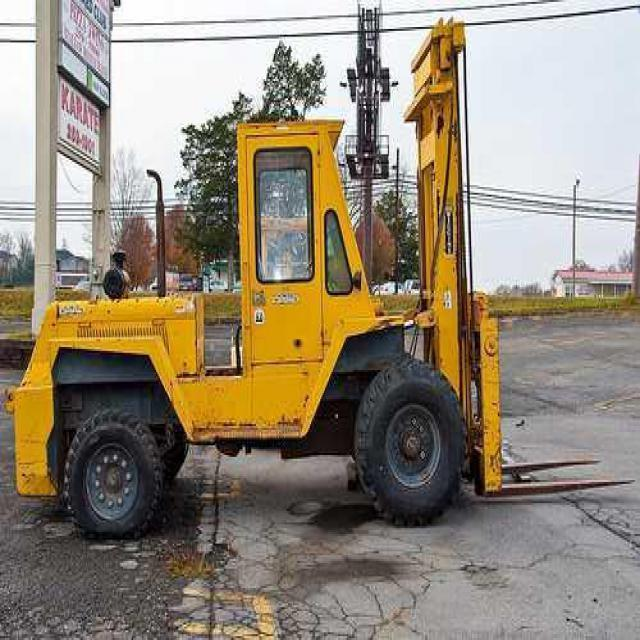forklift: (1, 15, 635, 542)
